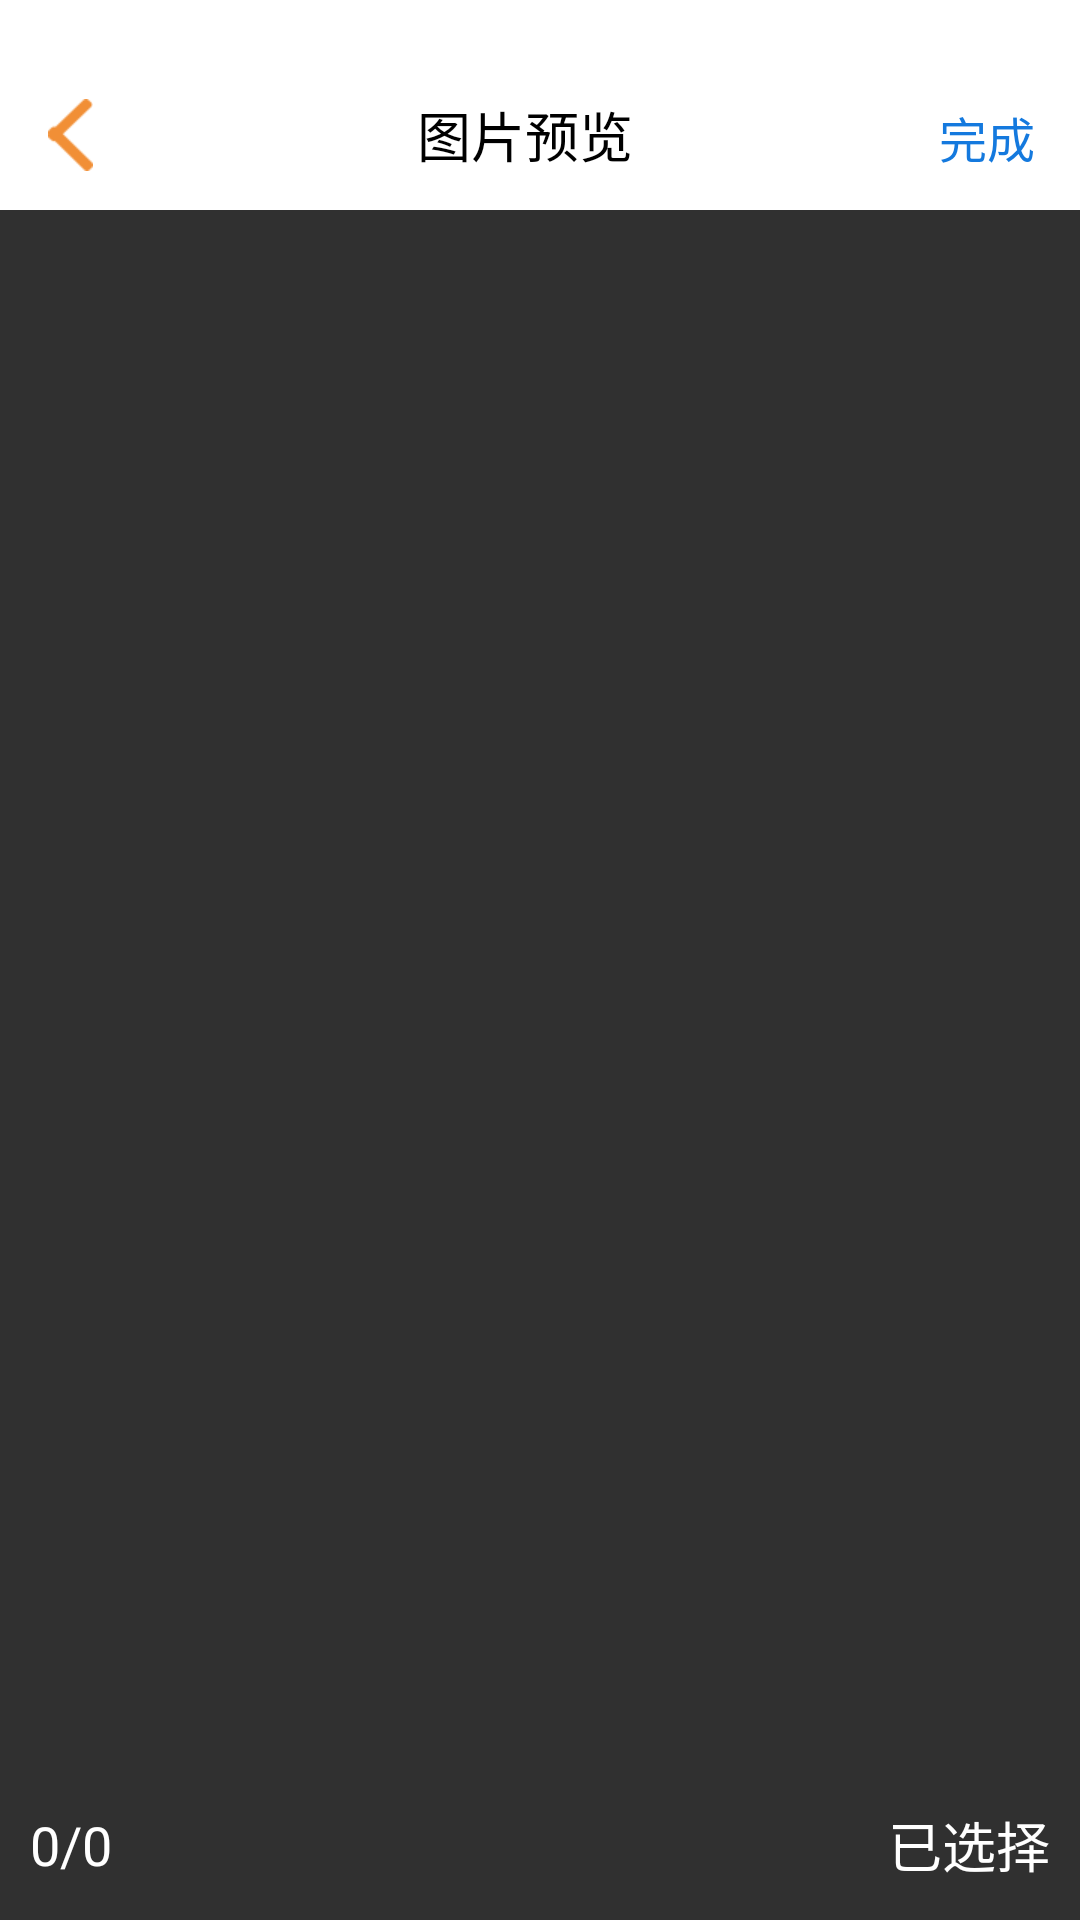

Named icons in this screenshot (1080x1920) and their centers, [x,y]:
back: [70,135]
